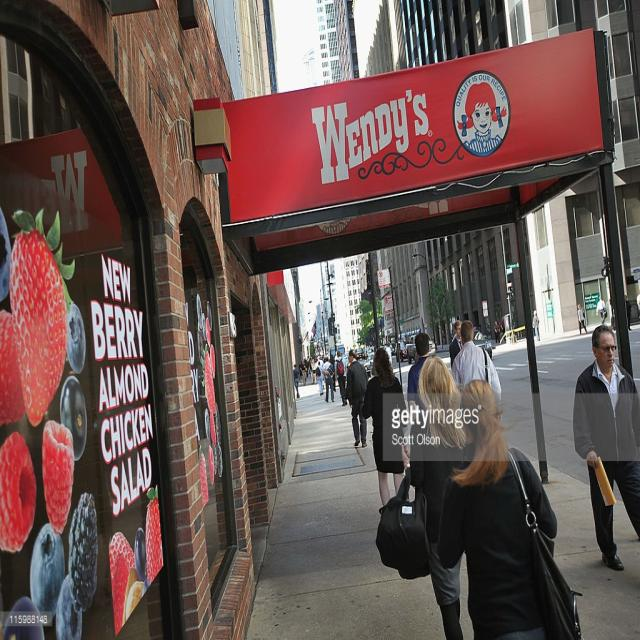body: (435, 377, 583, 640), (398, 353, 468, 640), (570, 322, 639, 576), (361, 347, 411, 508), (452, 320, 502, 422), (456, 80, 506, 156), (343, 348, 370, 450), (585, 290, 640, 336), (299, 353, 369, 386), (406, 330, 430, 422), (478, 320, 518, 345), (333, 348, 348, 406), (448, 319, 464, 371), (322, 355, 336, 404), (576, 304, 590, 336), (595, 294, 608, 325), (315, 360, 325, 396), (531, 308, 540, 342), (292, 363, 300, 399), (384, 340, 394, 366), (315, 354, 325, 368)
